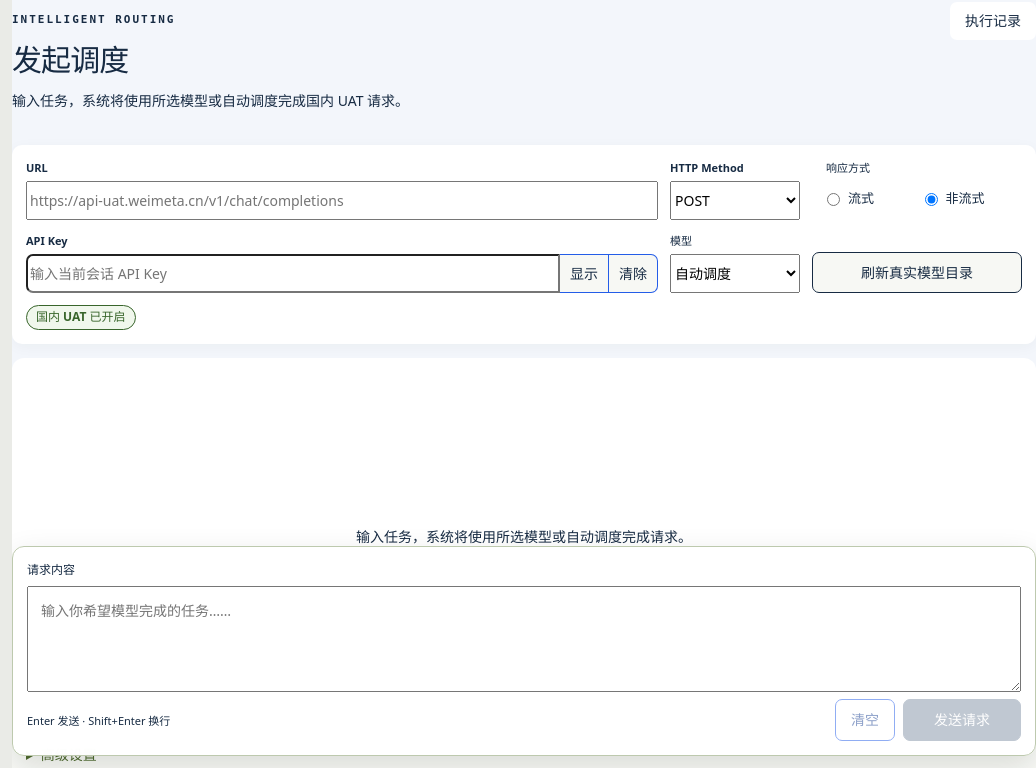
Test: agent-style UAT request page › loads the real model catalog only with the current key
In the password field labelled "API Key": (293, 274) top-left (26, 254), bottom-right (560, 294), type "test-only-key-not-real"
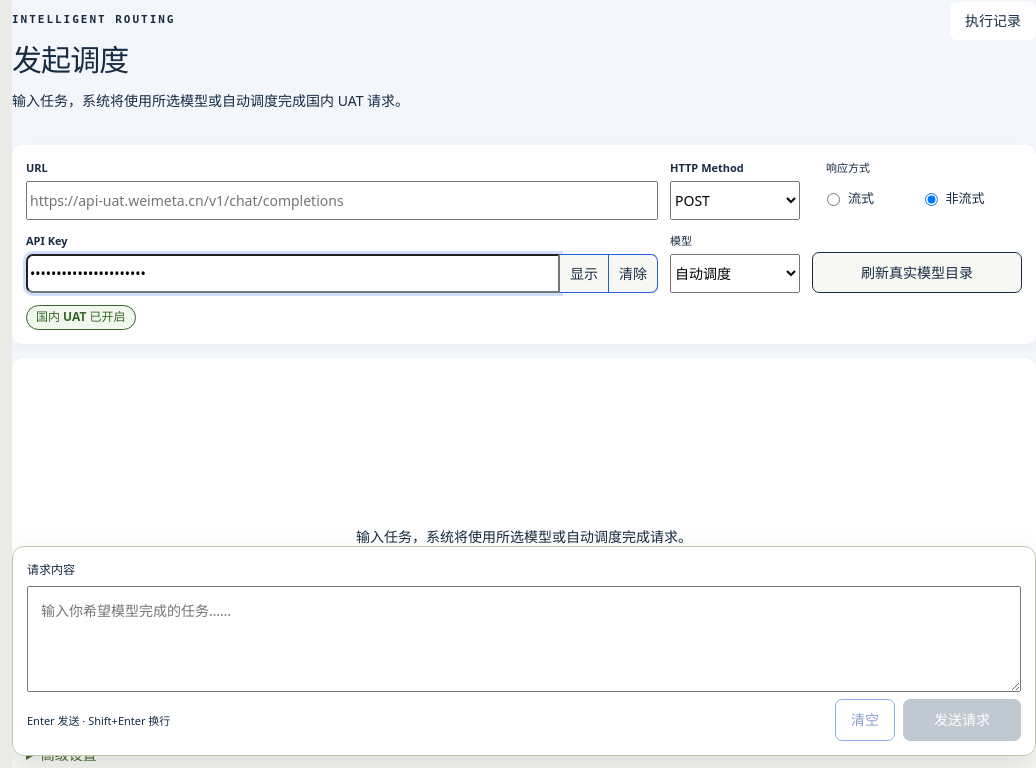
Click the button "刷新真实模型目录": (917, 273) top-left (812, 252), bottom-right (1022, 294)
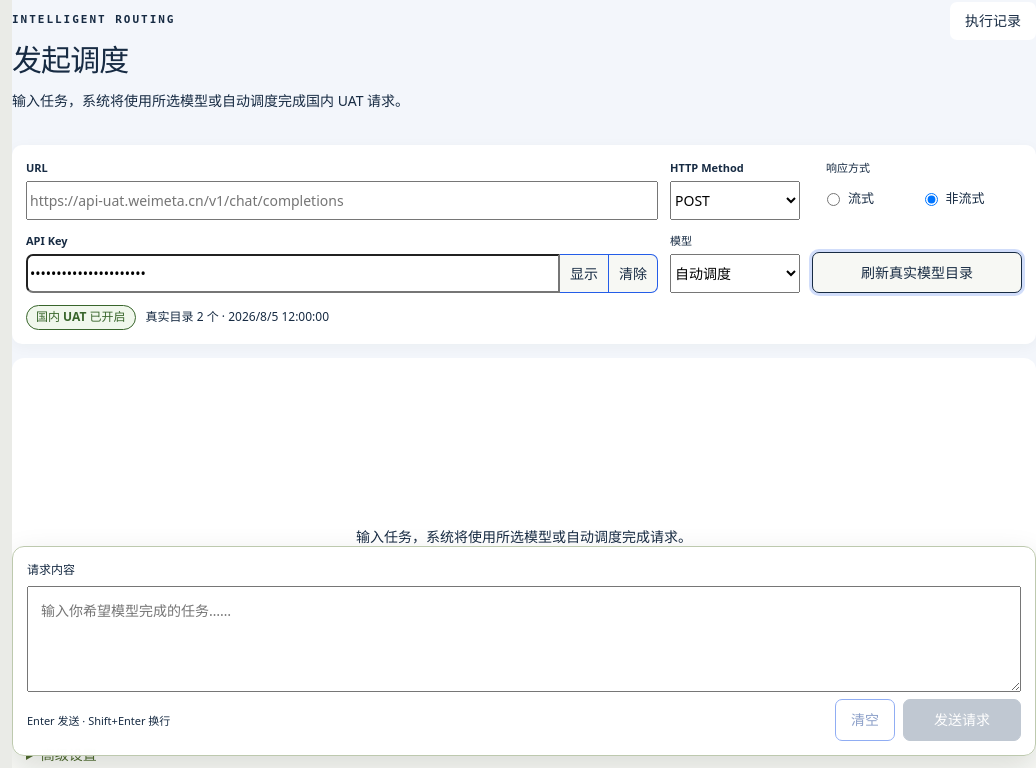
Result: the text "真实目录 2 个 · 2026/8/5 12:00:00" is shown at top-left (146, 308), bottom-right (329, 327)
